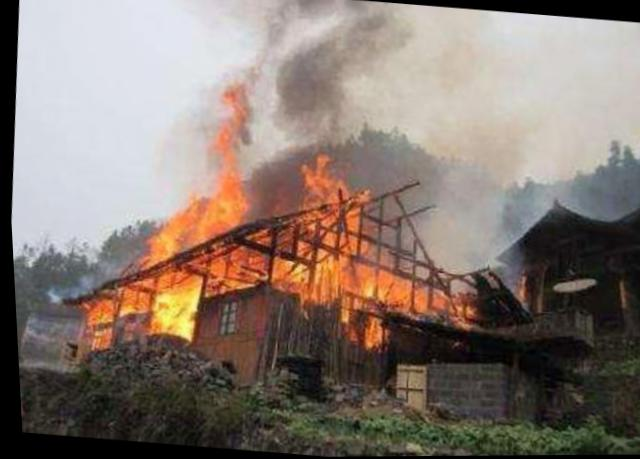fire: (150, 269, 201, 338), (206, 245, 267, 294), (201, 169, 247, 233), (152, 201, 208, 249), (213, 96, 246, 173), (115, 273, 152, 315), (297, 168, 337, 206), (311, 251, 339, 303), (269, 258, 309, 294), (374, 271, 412, 306), (141, 225, 175, 262), (339, 261, 375, 294), (414, 285, 446, 314), (447, 294, 475, 326), (85, 294, 114, 323), (359, 313, 382, 347), (88, 327, 109, 346), (345, 204, 360, 230), (338, 231, 356, 252), (321, 230, 336, 244)
